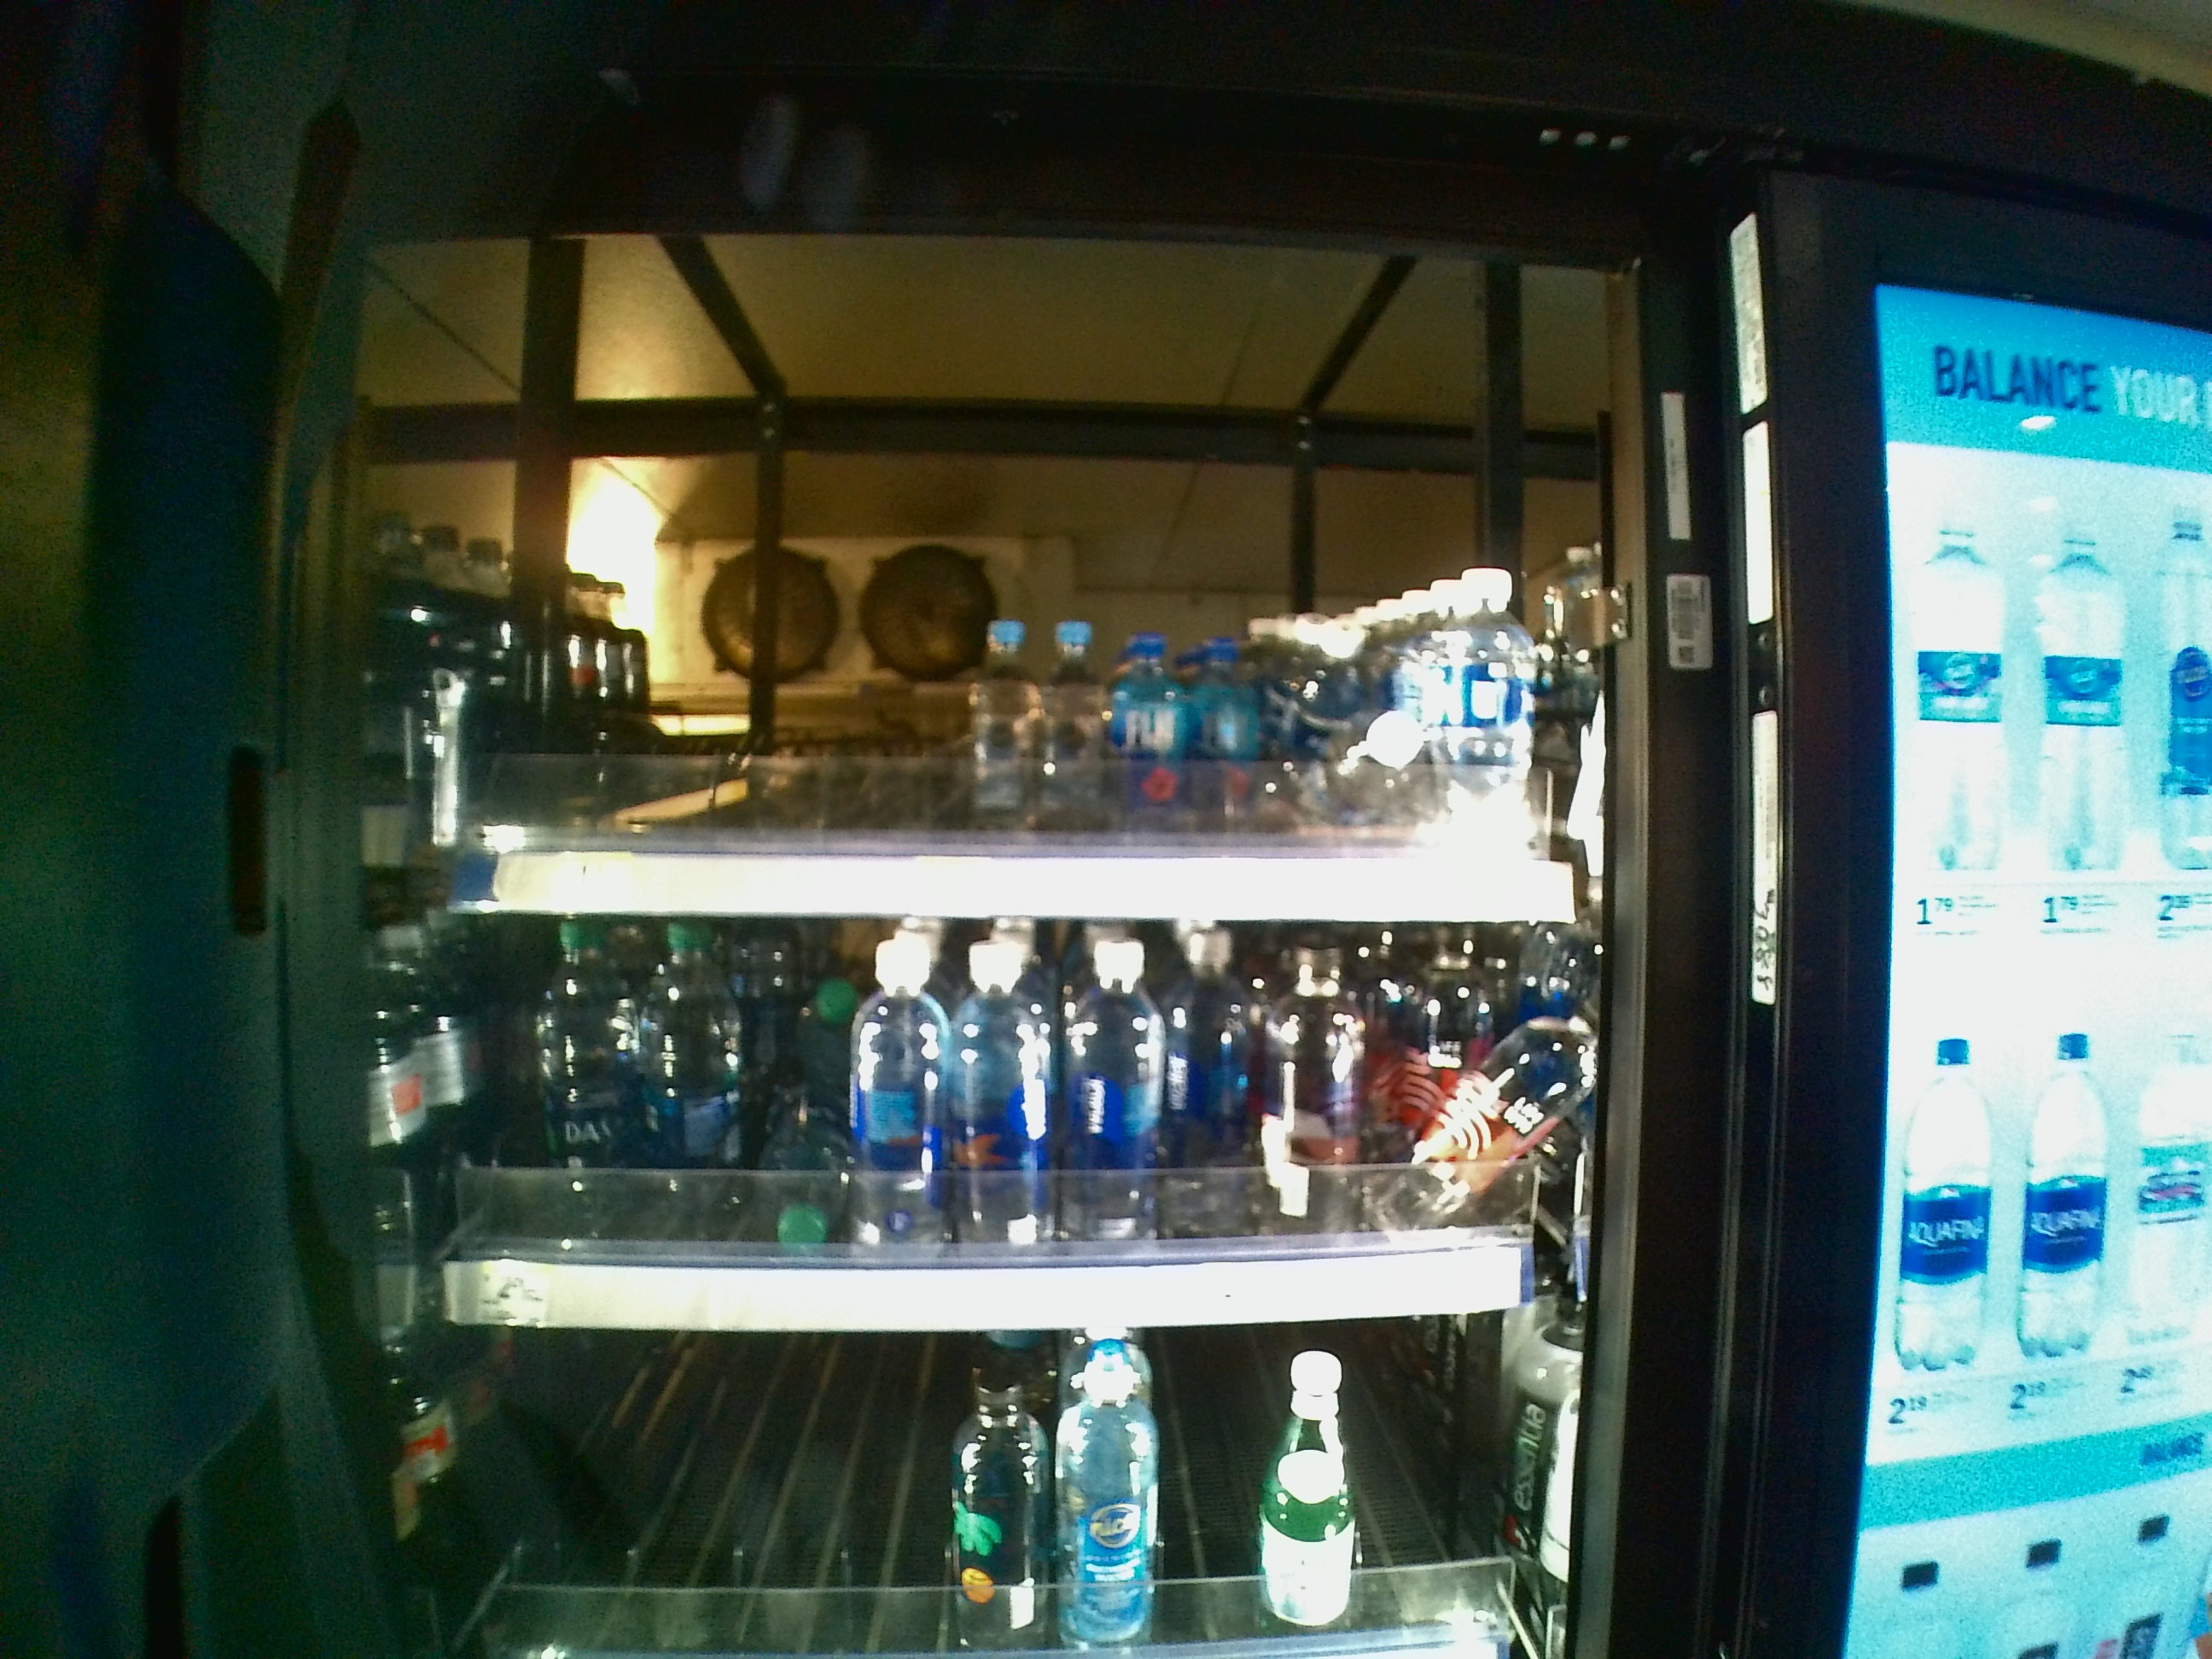Shelf: (350, 169, 1616, 929), (348, 932, 1587, 1338)
